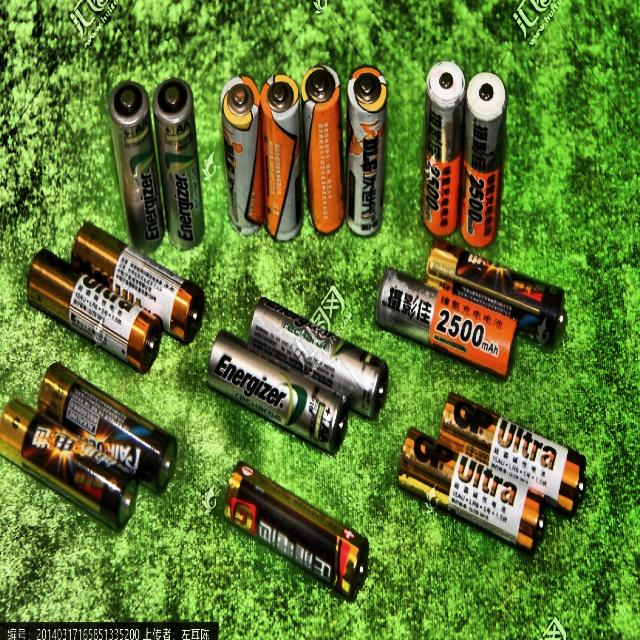Non-Valuable Waste - Batteries: (224, 462, 368, 597), (398, 429, 545, 553), (38, 363, 177, 492), (0, 400, 138, 529), (440, 394, 583, 514), (207, 332, 347, 451), (249, 299, 388, 417), (28, 250, 162, 372), (72, 223, 203, 342), (376, 269, 516, 377), (425, 238, 564, 345), (108, 83, 164, 251), (153, 79, 205, 249), (460, 73, 507, 247), (423, 61, 466, 236), (301, 65, 345, 233), (260, 73, 302, 241), (346, 67, 388, 235), (220, 77, 264, 234)
